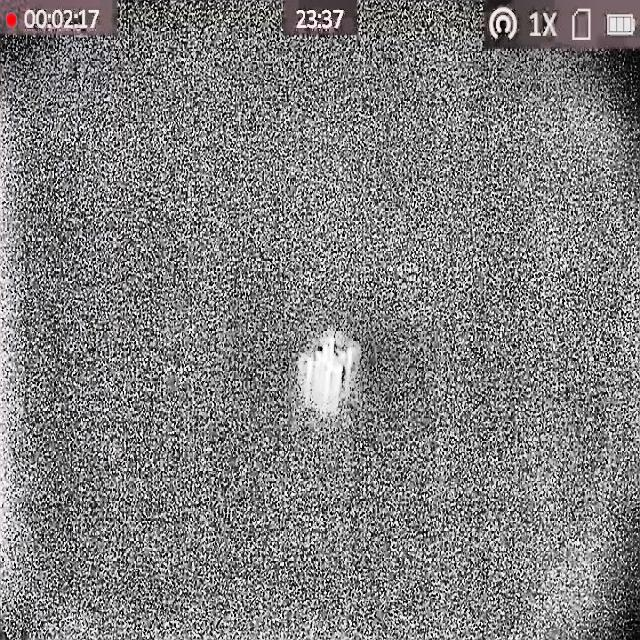drone: (299, 326, 362, 407)
